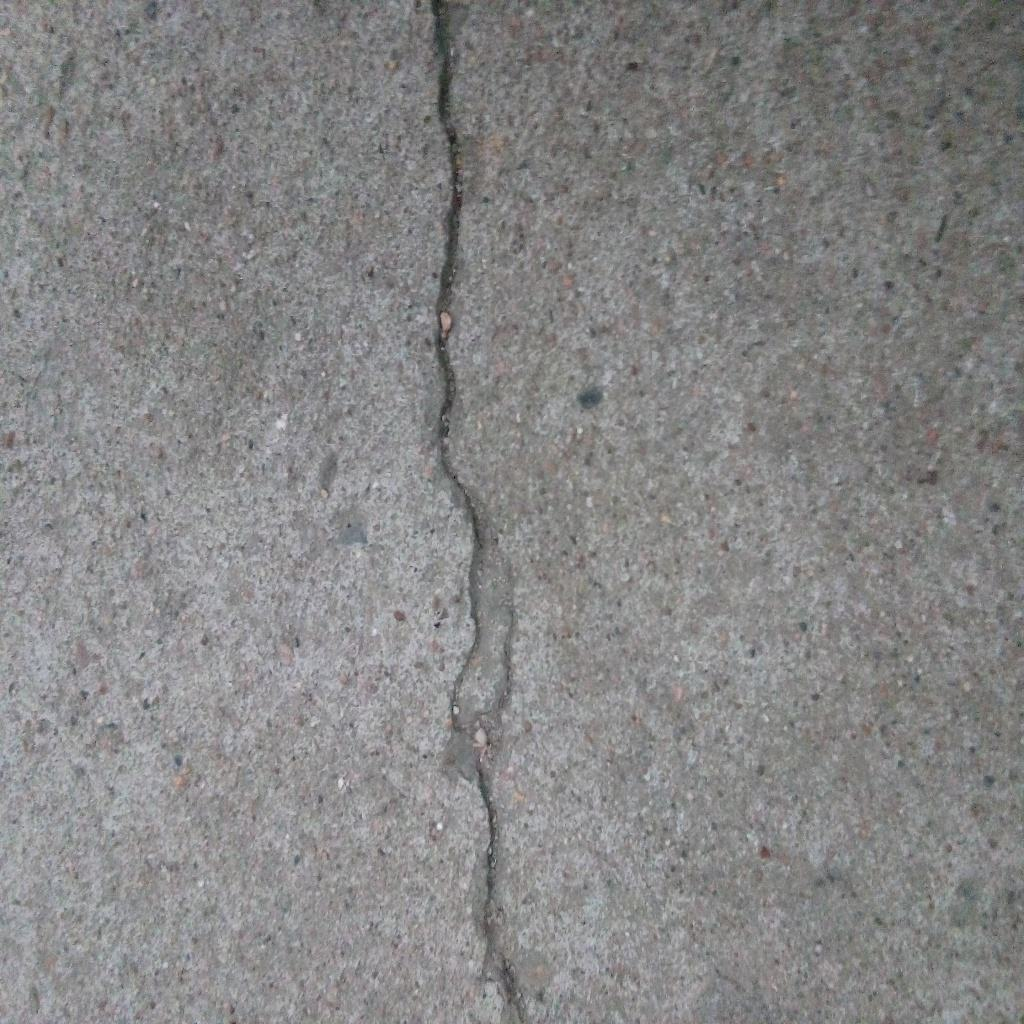Crack: (431, 1, 530, 1024)
